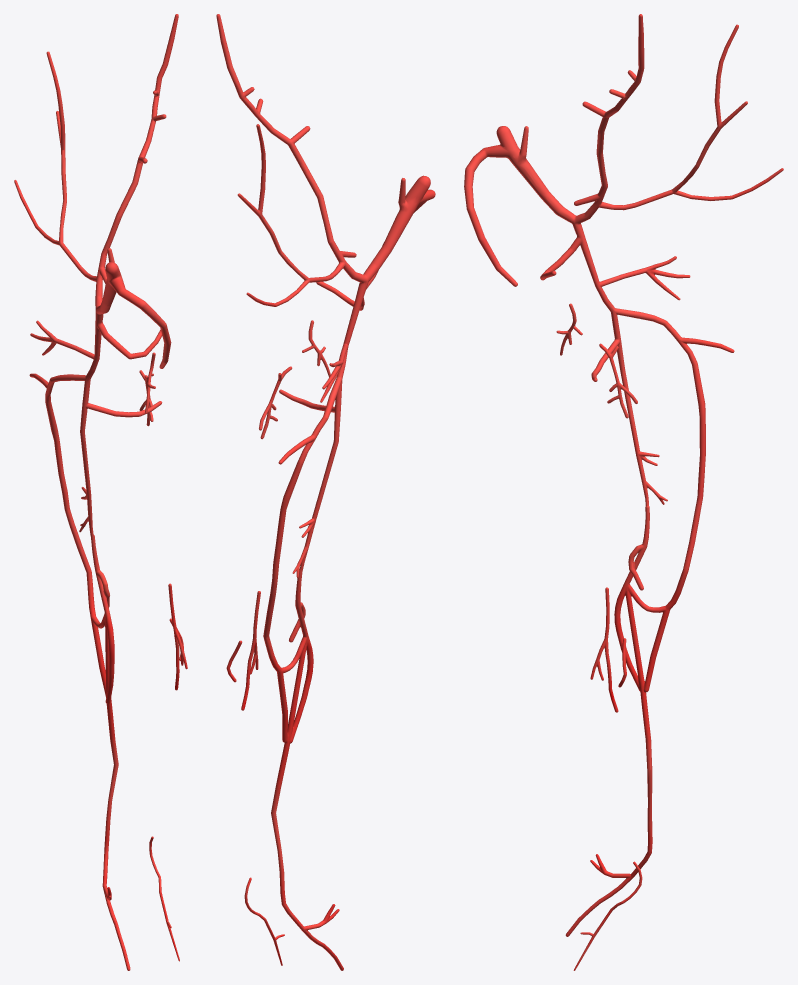
File: Arteries.glb
The picture shows the model from 3 angles, left to right: view 1: azimuth 30°, elevation 25°; view 2: azimuth 150°, elevation 25°; view 3: azimuth 270°, elevation 25°; orthographic projection. The views are drawn at different scales.
Parts seen in each view (by area): view 1: PM3D_arteries_1.001, PM3D_ZSphere1_11.001, PM3D_ZSphere1_8.001; view 2: PM3D_arteries_1.001, PM3D_ZSphere1_11.001; view 3: PM3D_arteries_1.001, PM3D_ZSphere1_11.001.
Part boxes in pixels (x1,y1,x2,y2): PM3D_arteries_1.001: (14,14,178,970); PM3D_ZSphere1_11.001: (168,583,187,690); PM3D_ZSphere1_8.001: (149,836,179,961); PM3D_arteries_1.001: (216,14,435,970); PM3D_ZSphere1_11.001: (241,591,260,710); PM3D_arteries_1.001: (464,14,783,936); PM3D_ZSphere1_11.001: (590,587,618,712).
Bounding box in the file's own units: 0.2077 × 1.33 × 0.3955.
Materials: 6 (6 with a texture image).
